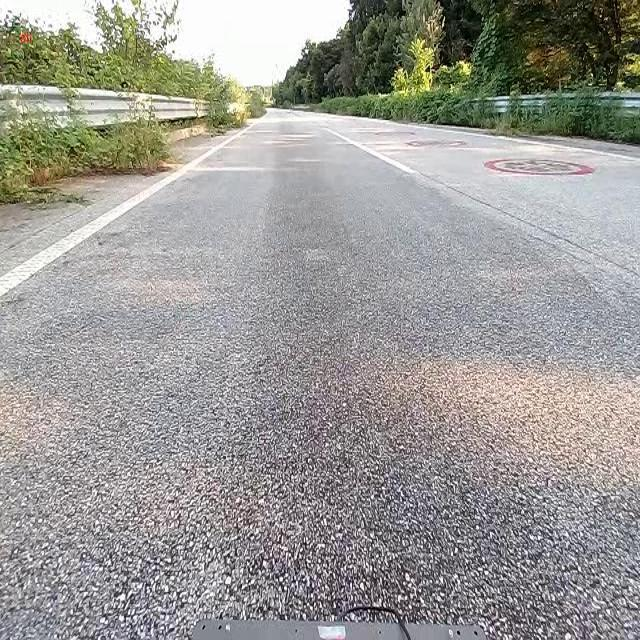Lane: (0, 115, 253, 305), (0, 130, 244, 297), (312, 110, 427, 190), (324, 128, 417, 174)
